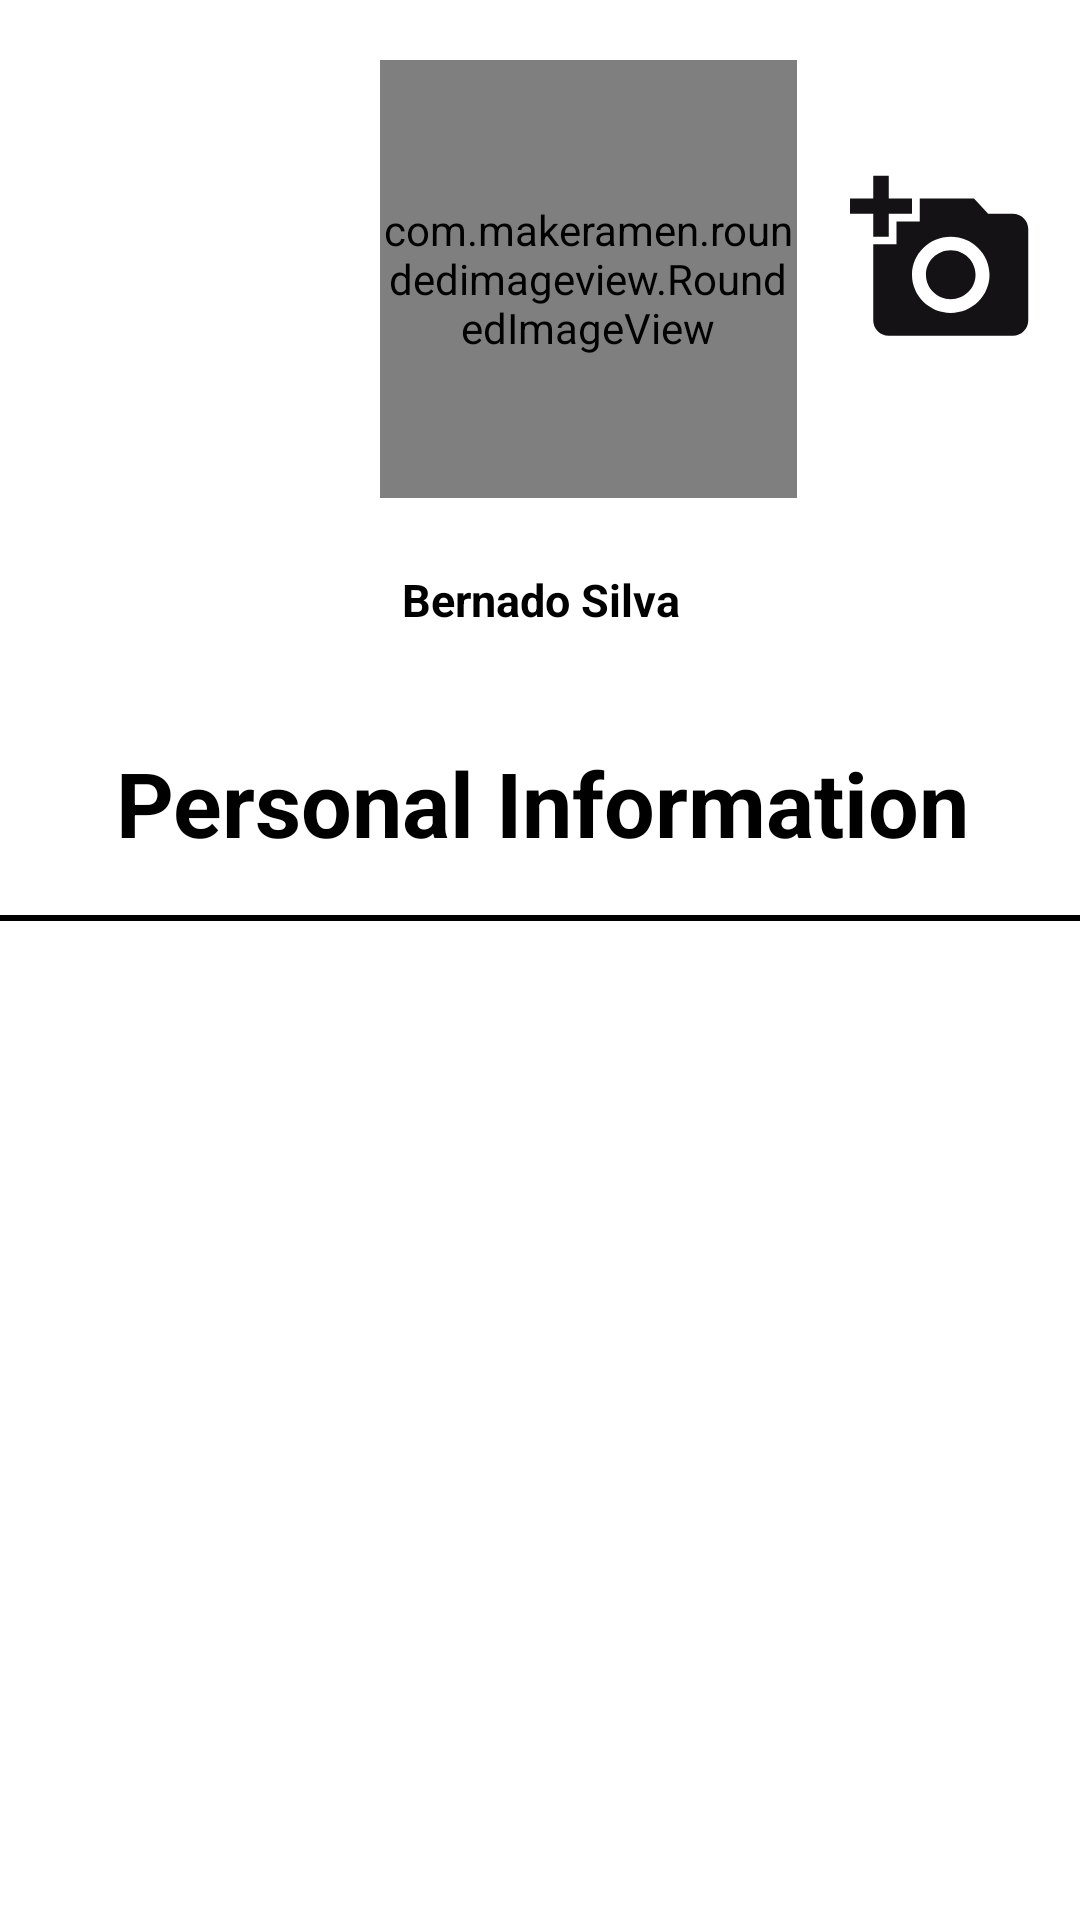

Icons on this 1080px x 1920px Android screen, each with its box as bbox=[x1, y1, x2, y2]:
add photo: bbox=[850, 175, 1029, 336]
